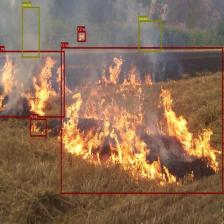fire: (60, 46, 223, 194), (0, 50, 64, 117), (30, 118, 46, 136), (77, 31, 86, 42)
smoke: (22, 6, 39, 57), (138, 20, 162, 52)
